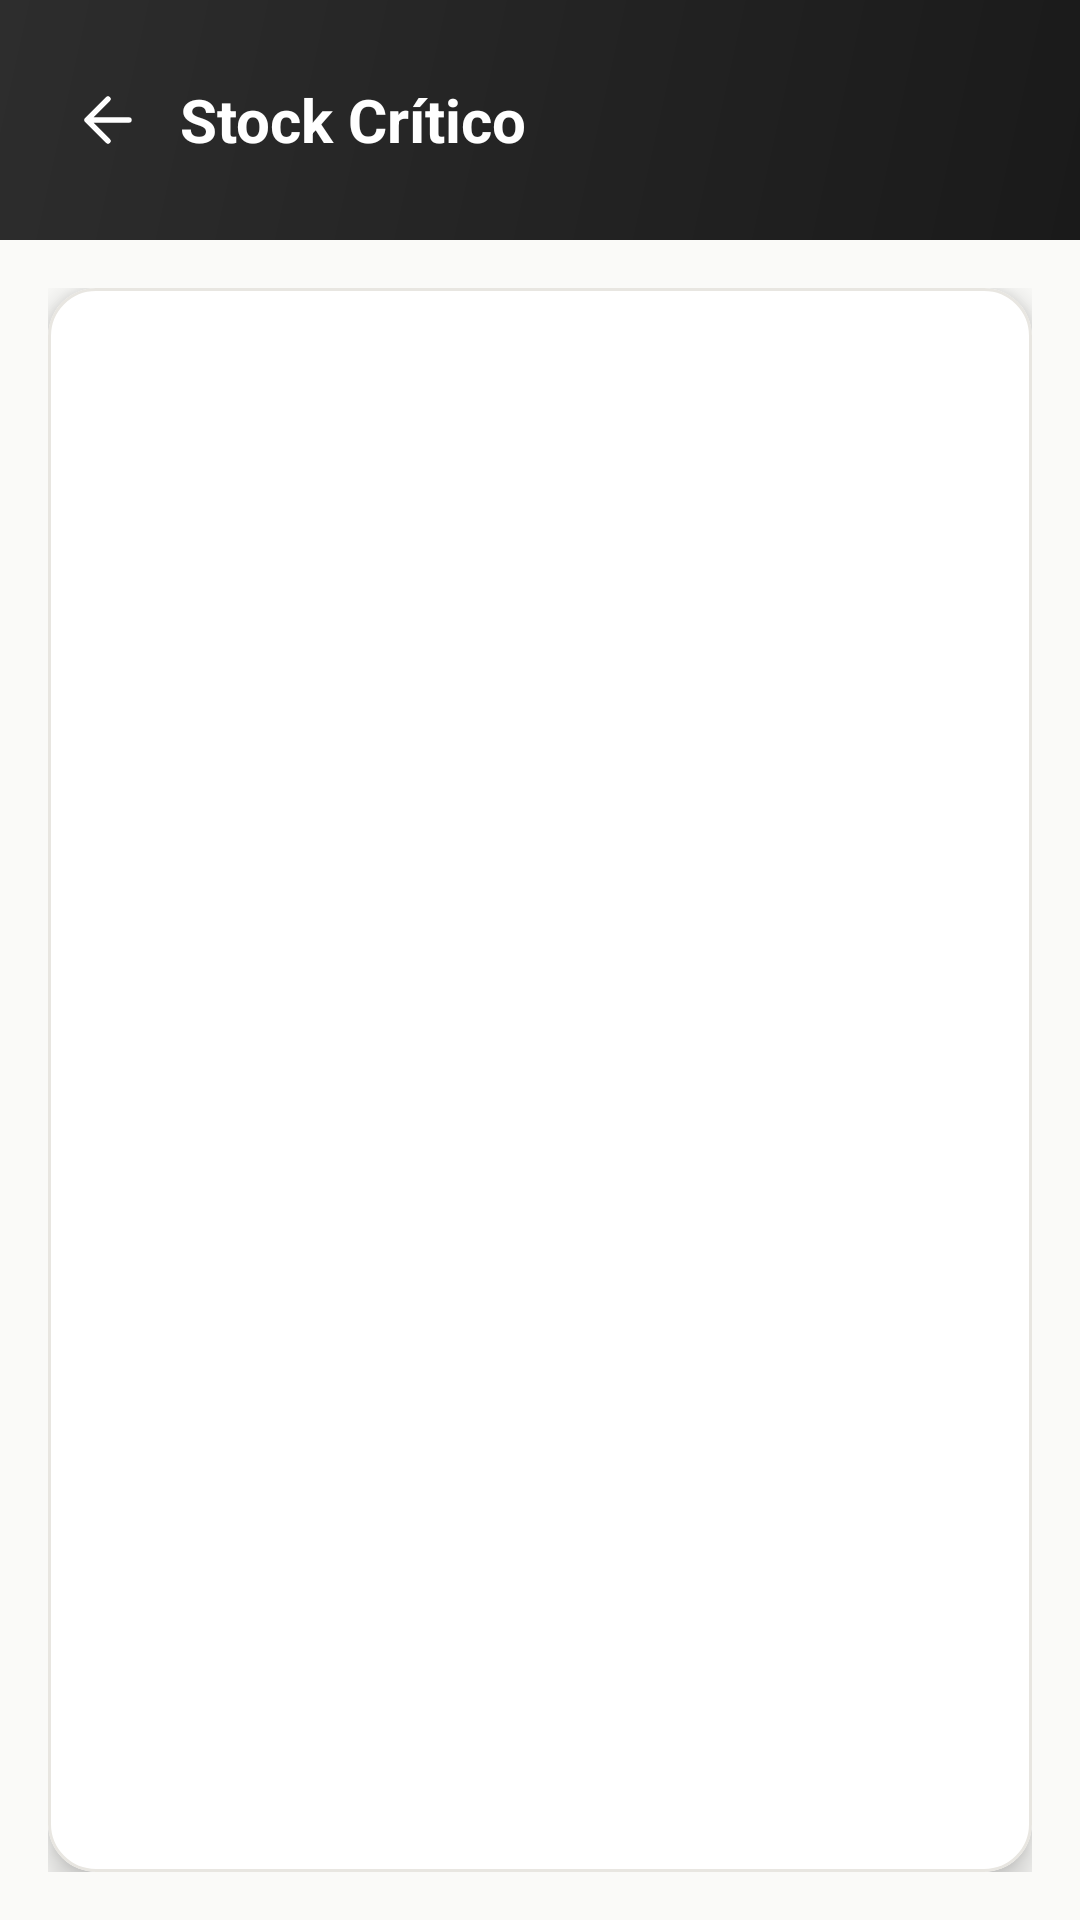

Where to tap for icons on this 1080 × 1920 app screen, as [x,y]:
Volver: [108,120]
